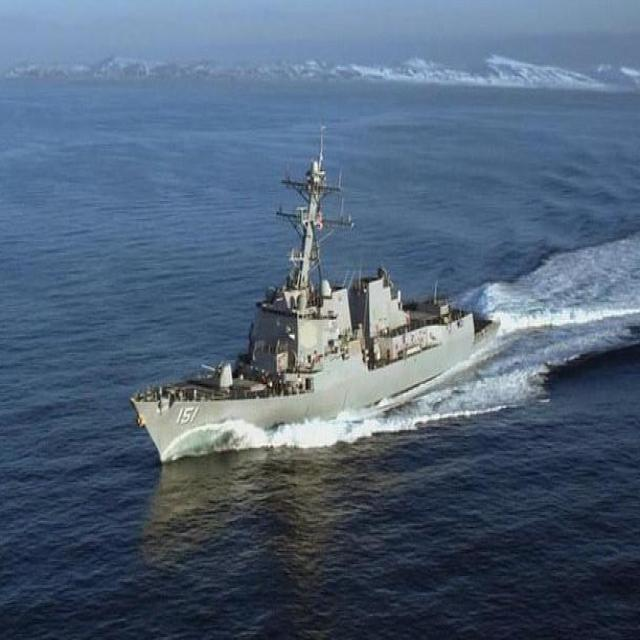navalvessels: (133, 124, 496, 467)
